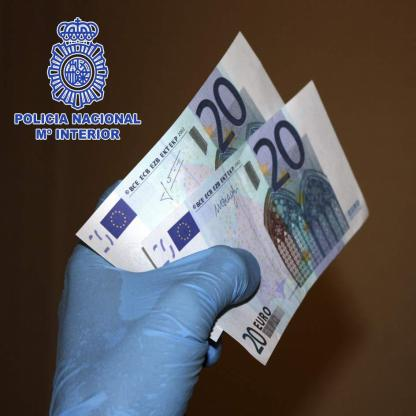billete: (140, 79, 370, 365), (76, 30, 286, 273)
